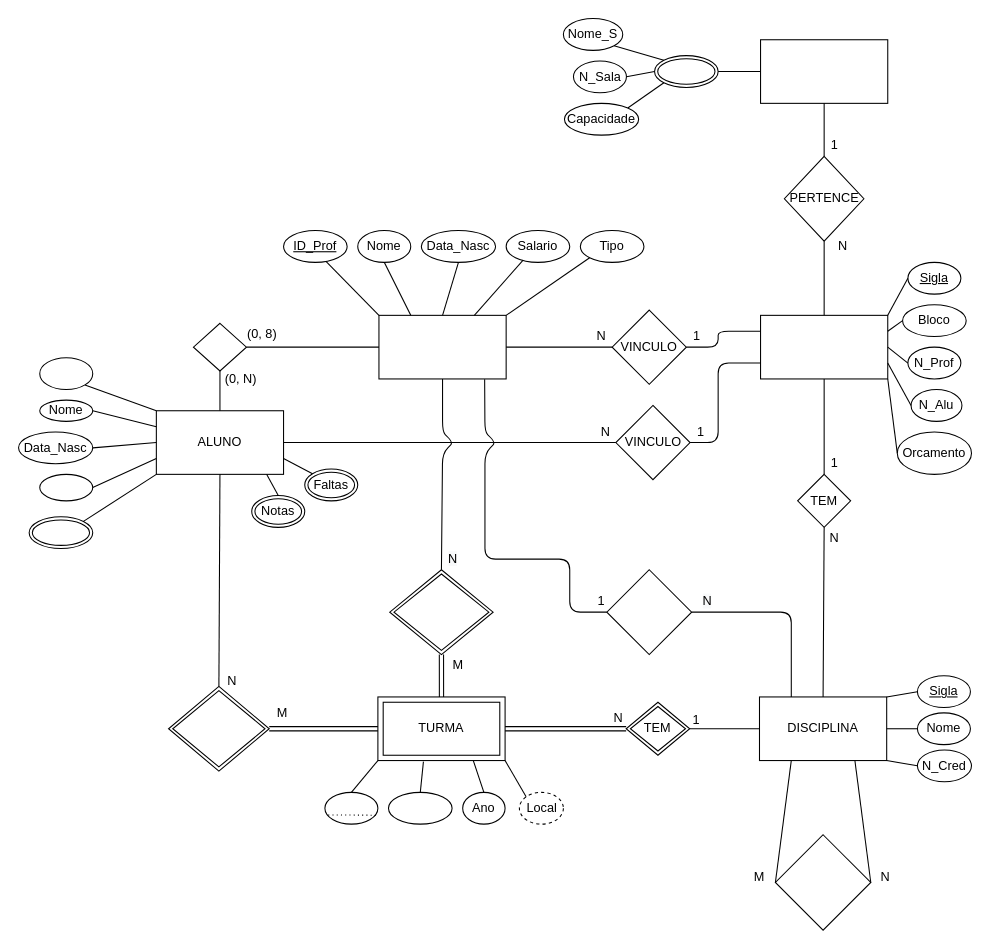
Image size: 990x949. Some labels were removed from this diagram. Each missing label, with the centre of its shape:
ASSOCIADO: point 441,612
CRA: point 66,487
FACULDADE: point 823,346
IC: point 219,346
ID_Alu: point 66,373
ID_Tur: point 351,807
MATRICULA: point 218,728
MINISTRA: point 649,612
PRE_ REQUISITO: point 822,882
PROFESSOR: point 442,346
Salas: point 685,71
Semestre: point 419,807
Telefone: point 60,532
UNIVERSIDADE: point 823,71
